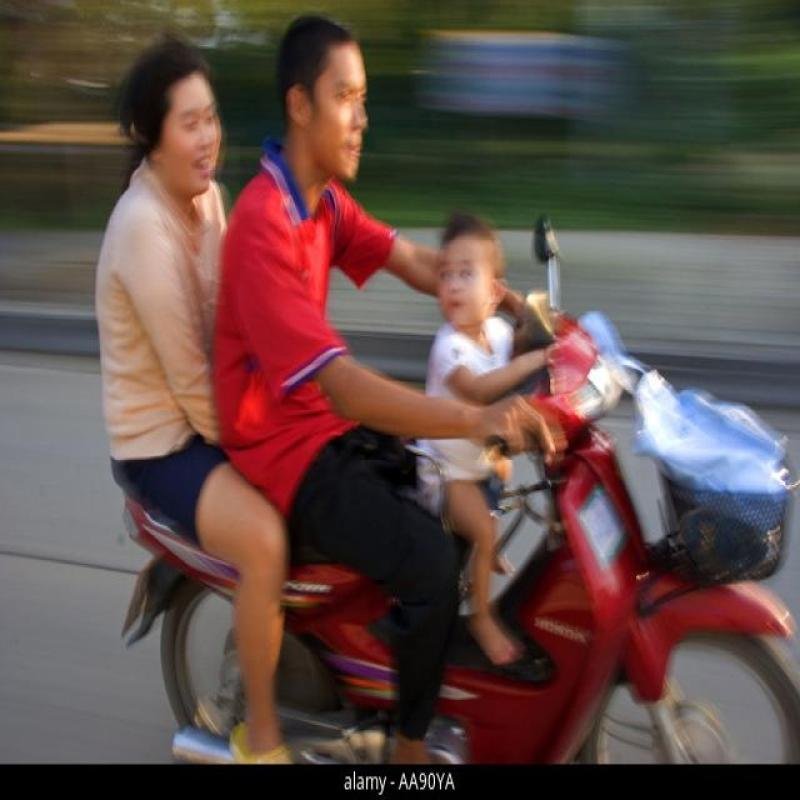nohelmet: (116, 48, 223, 198), (280, 30, 376, 178), (435, 208, 501, 342)
